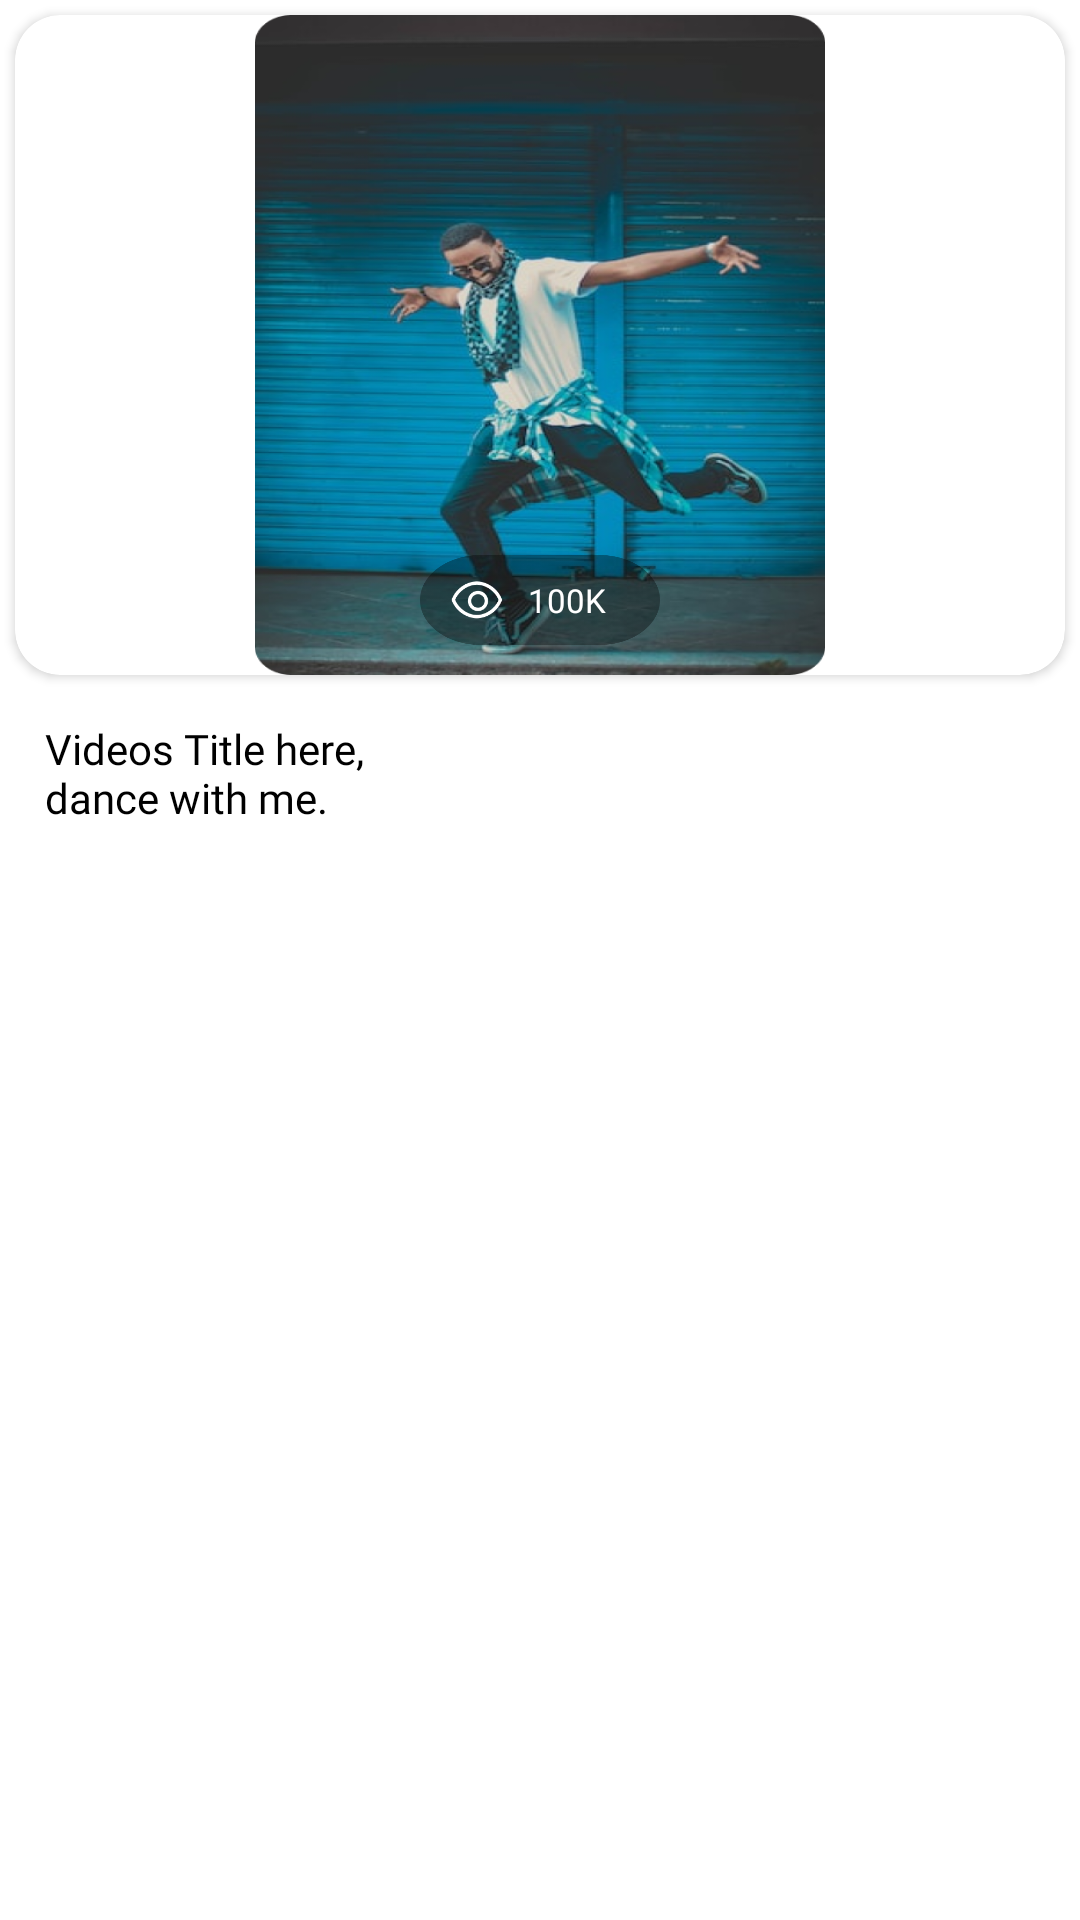

Point at icon controls on the screen. Image size 1080px x 1920px, points as (x=x, y=y).
view: (x=477, y=600)
